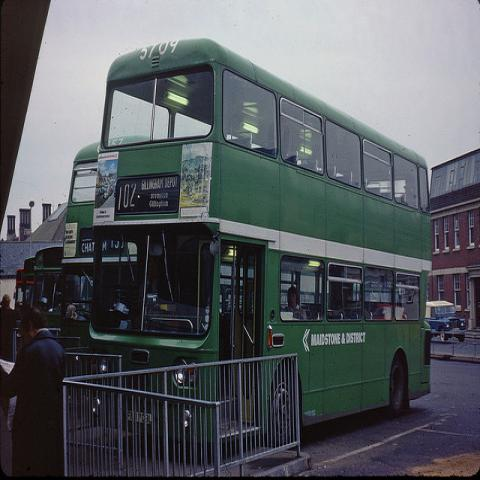bus: (90, 41, 432, 424), (59, 141, 100, 342), (29, 246, 64, 331), (21, 253, 35, 304)
car: (425, 298, 466, 343)
